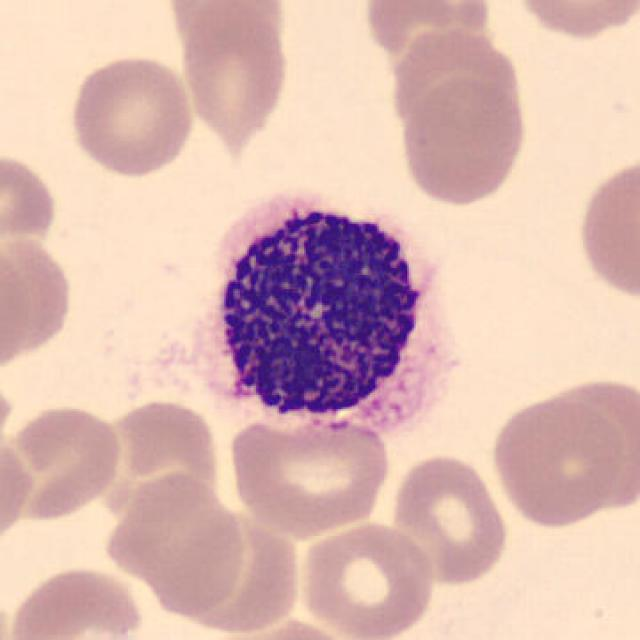Basophil: (185, 180, 466, 450)
RBC: (100, 468, 250, 622), (222, 408, 395, 540), (487, 390, 631, 530), (396, 72, 530, 208), (386, 449, 512, 589), (64, 49, 197, 180), (174, 2, 294, 146), (295, 518, 439, 638), (94, 395, 224, 520), (2, 400, 126, 526), (5, 562, 150, 640), (0, 229, 76, 368), (572, 152, 640, 306), (361, 0, 499, 69), (160, 0, 293, 53), (0, 148, 60, 245), (508, 0, 639, 42), (0, 236, 32, 379), (199, 613, 366, 640), (0, 430, 36, 552), (0, 376, 16, 469)
